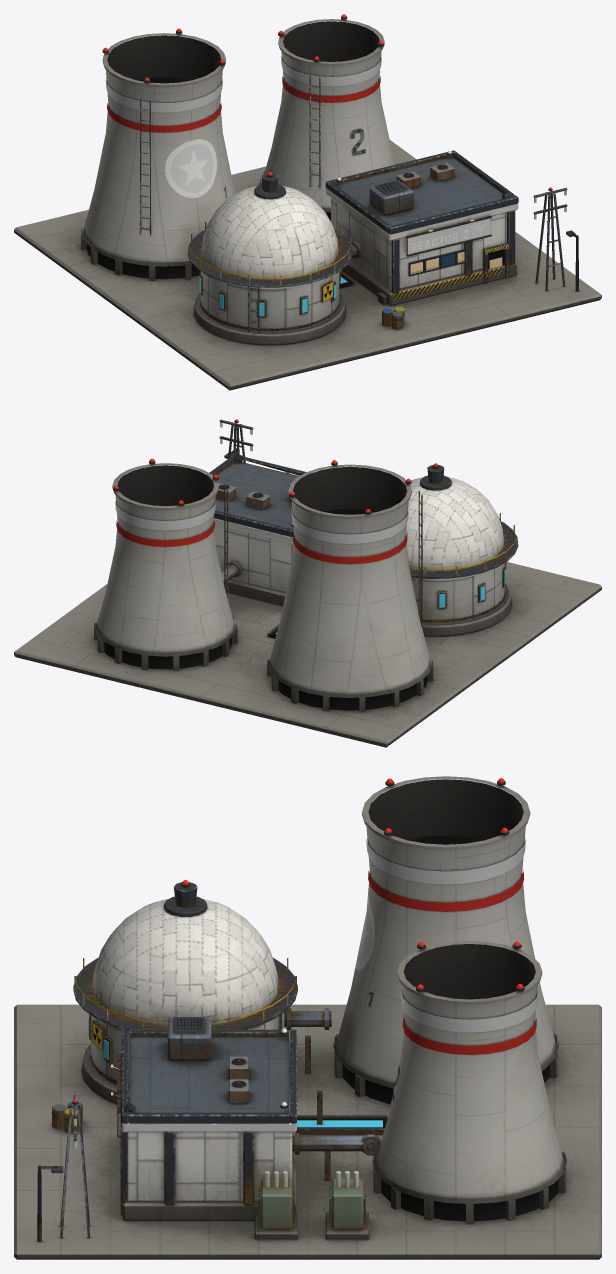
The model's file is apwr.allies.glb.
3 renders of one model, top to bottom at view 1: azimuth 30°, elevation 25°; view 2: azimuth 150°, elevation 25°; view 3: azimuth 270°, elevation 25°, orthographic. The views are drawn at different scales.
Visible parts, largest first — view 1: root_mesh; view 2: root_mesh; view 3: root_mesh.
Part boxes in pixels (x1=…): root_mesh: x1=14, y1=14, x2=601, y2=390; root_mesh: x1=14, y1=419, x2=601, y2=747; root_mesh: x1=14, y1=776, x2=601, y2=1259.
Size of the model in its own units: 2.98 by 1.52 by 2.98.
Materials: 1 (1 with a texture image).
